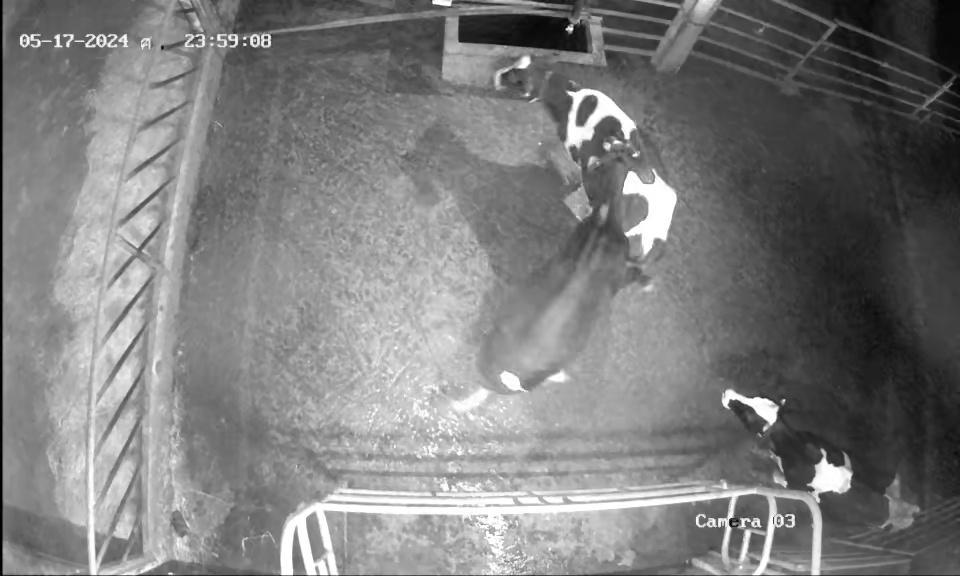ride: (458, 133, 680, 440)
stand: (493, 53, 686, 266), (717, 375, 938, 534)
